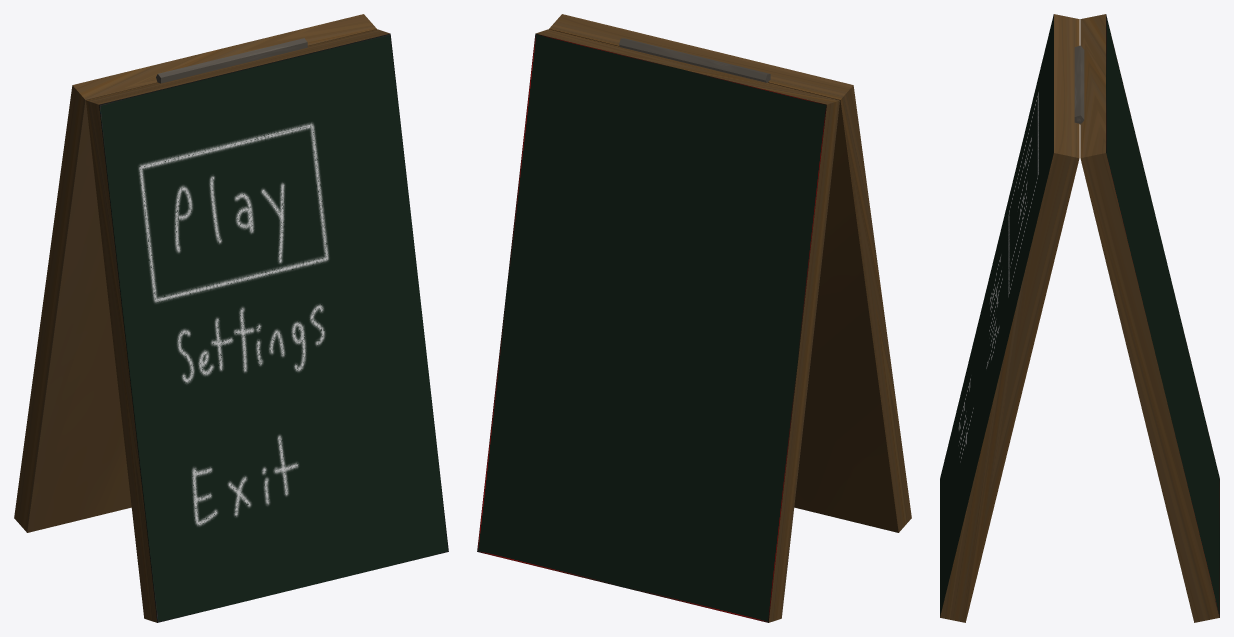
Rendered from sign.gltf.
3 views of the same model, side by side, from view 1: azimuth 30°, elevation 25°; view 2: azimuth 150°, elevation 25°; view 3: azimuth 270°, elevation 25° (orthographic). The views are drawn at different scales.
Visible parts, largest first — view 1: Cube.003; view 2: Cube.003; view 3: Cube.003.
Part boxes in pixels (box(x1,y1,x2,y2)): Cube.003: box(14, 14, 448, 622); Cube.003: box(477, 14, 911, 622); Cube.003: box(940, 14, 1219, 622).
Bounding box in the file's own units: 1.25 × 1.99 × 1.07.
